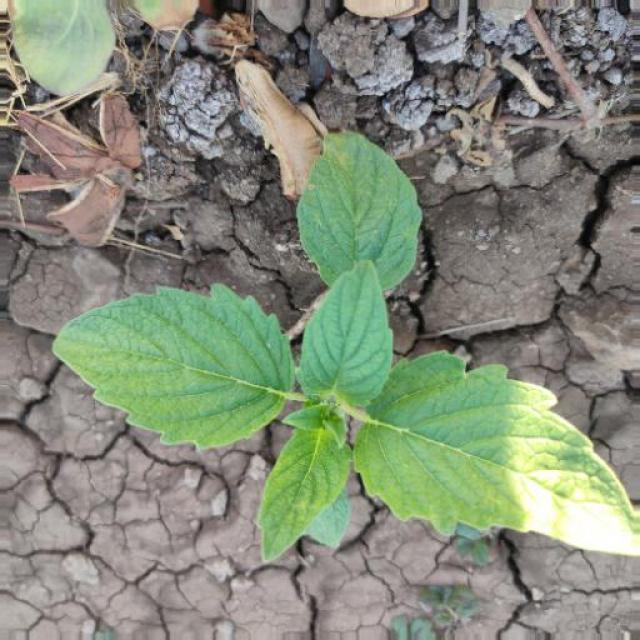crop: (55, 127, 640, 578)
